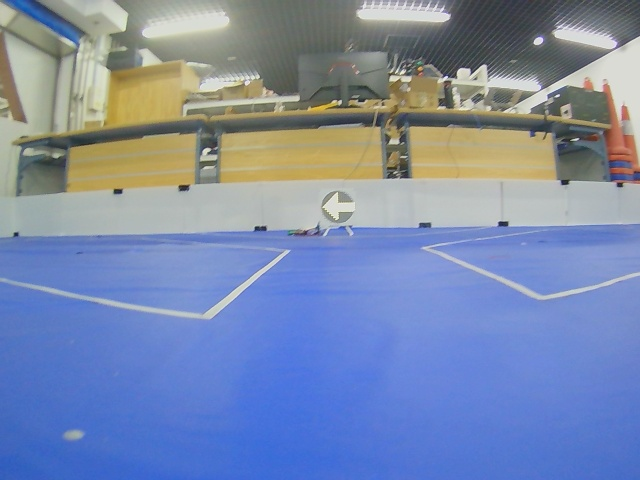left_yellow: (321, 191, 356, 223)
